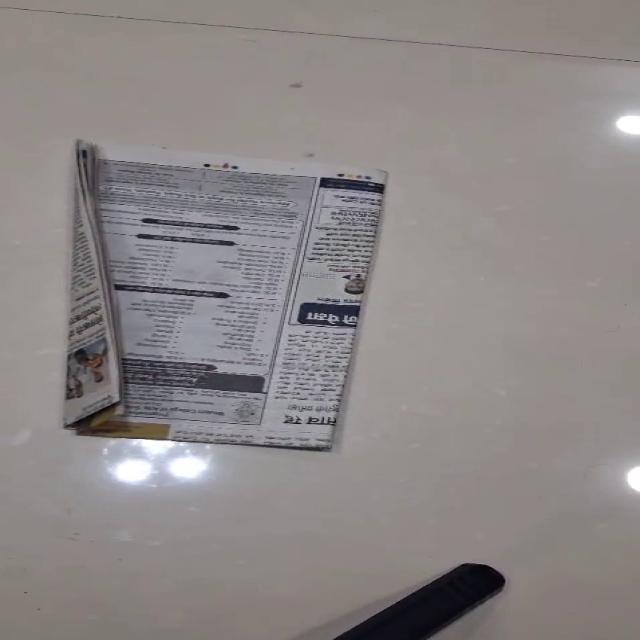paper: (64, 139, 388, 451)
